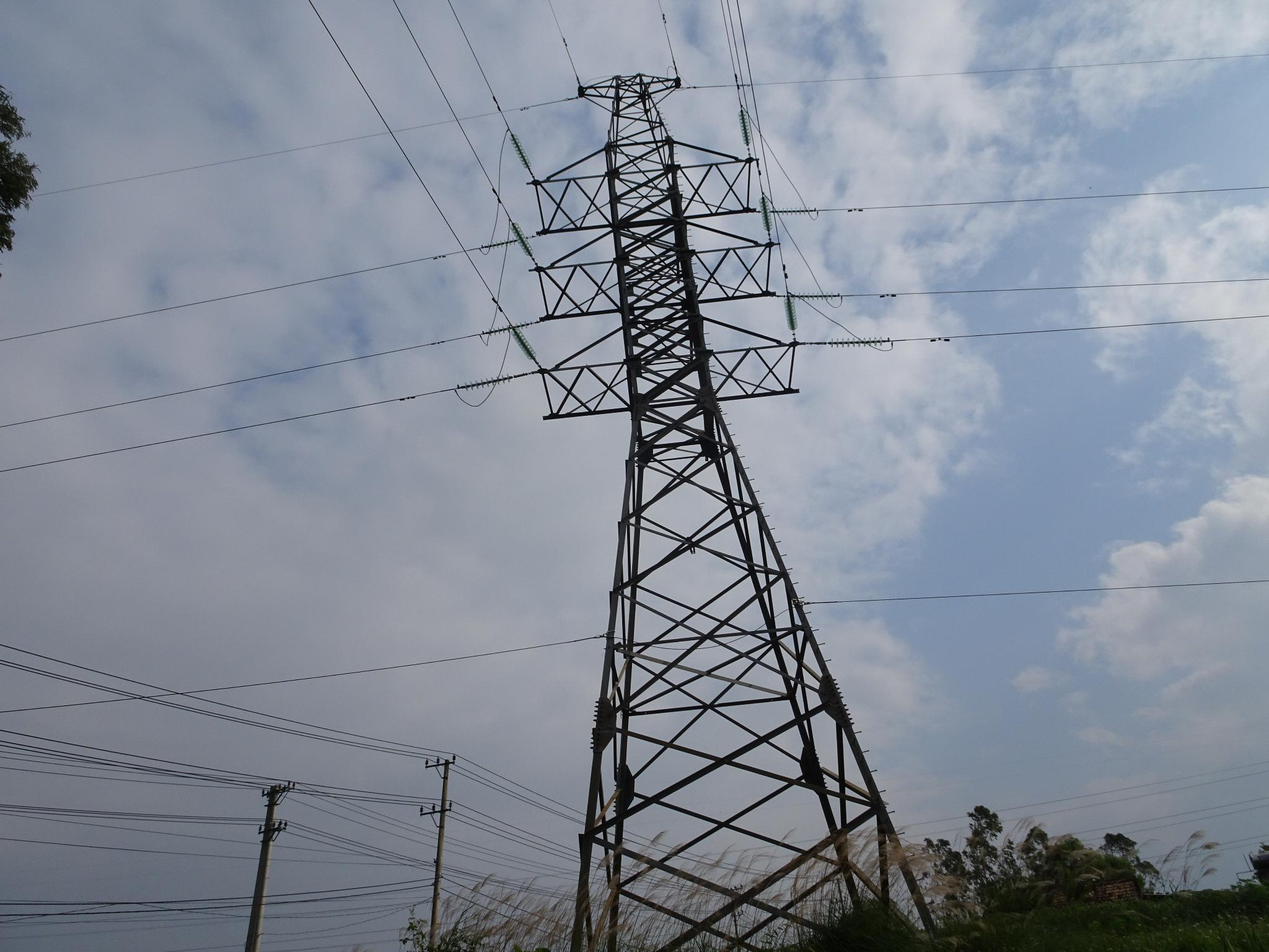tower: (516, 75, 960, 952)
